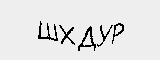Д: (77, 25, 95, 52)
Р: (110, 22, 127, 46)
У: (94, 22, 112, 49)
Х: (56, 23, 76, 47)
Ш: (32, 19, 57, 43)
